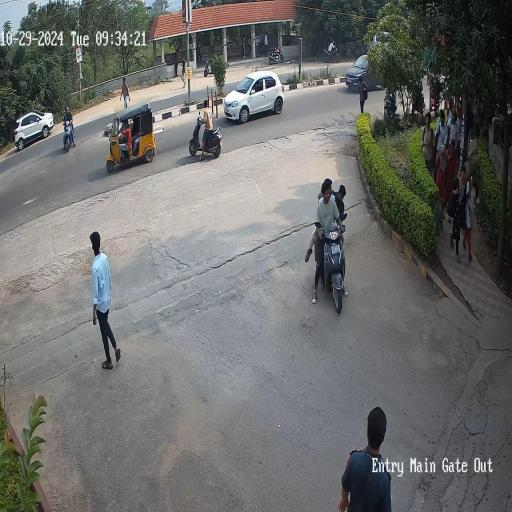no helmet: (319, 178, 339, 212), (193, 98, 218, 122), (59, 102, 78, 122)
triple riding: (313, 167, 353, 317)
